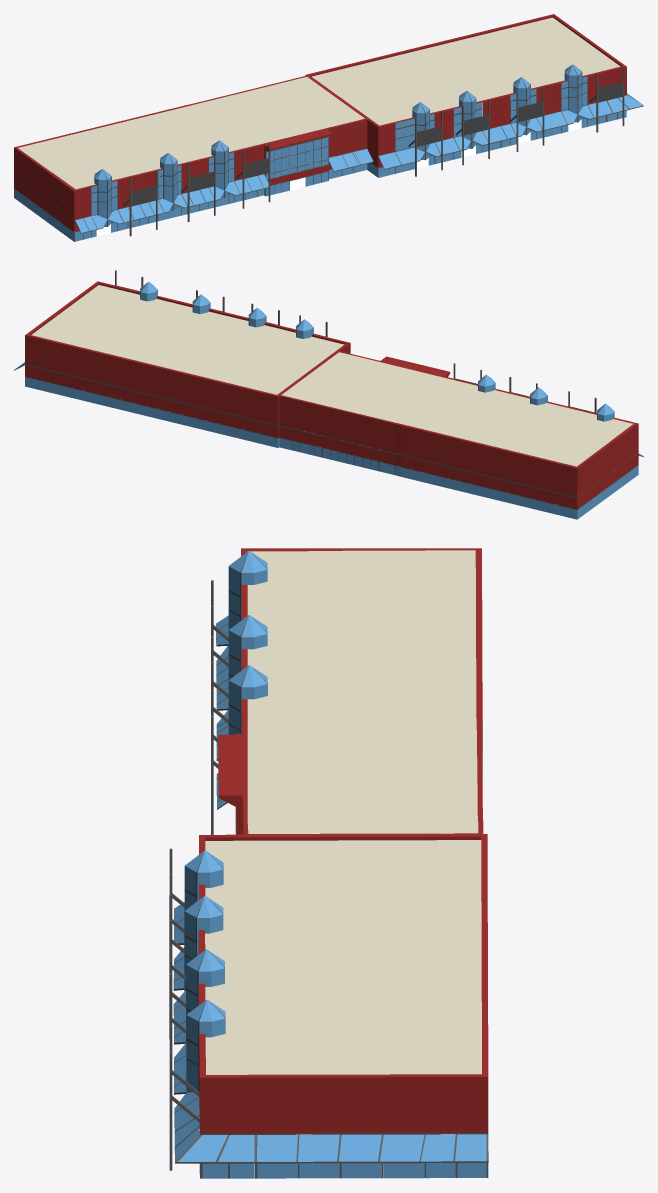
The model's file is goosens_WBV2.glb.
3 renders of one model, top to bottom at view 1: azimuth 30°, elevation 25°; view 2: azimuth 150°, elevation 25°; view 3: azimuth 270°, elevation 25°, orthographic. The views are drawn at different scales.
Parts seen in each view (by area): view 1: Cube.004; view 2: Cube.004; view 3: Cube.004.
Part boxes in pixels (x1,y1,x2,y2): Cube.004: [14, 14, 643, 241]; Cube.004: [14, 270, 643, 519]; Cube.004: [169, 548, 488, 1178].
Size of the model in its own units: 596 by 66.71 by 149.
